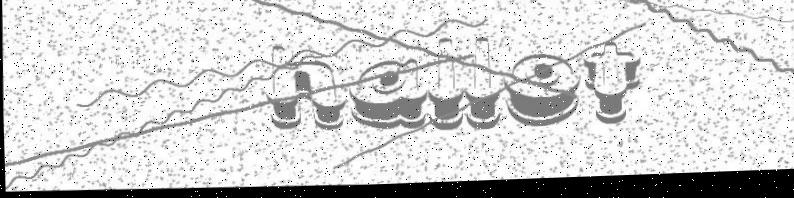a: (348, 57, 427, 133)
h: (264, 41, 350, 134)
l: (460, 38, 503, 139), (425, 38, 466, 134)
o: (501, 52, 583, 134)
t: (579, 40, 644, 133)
